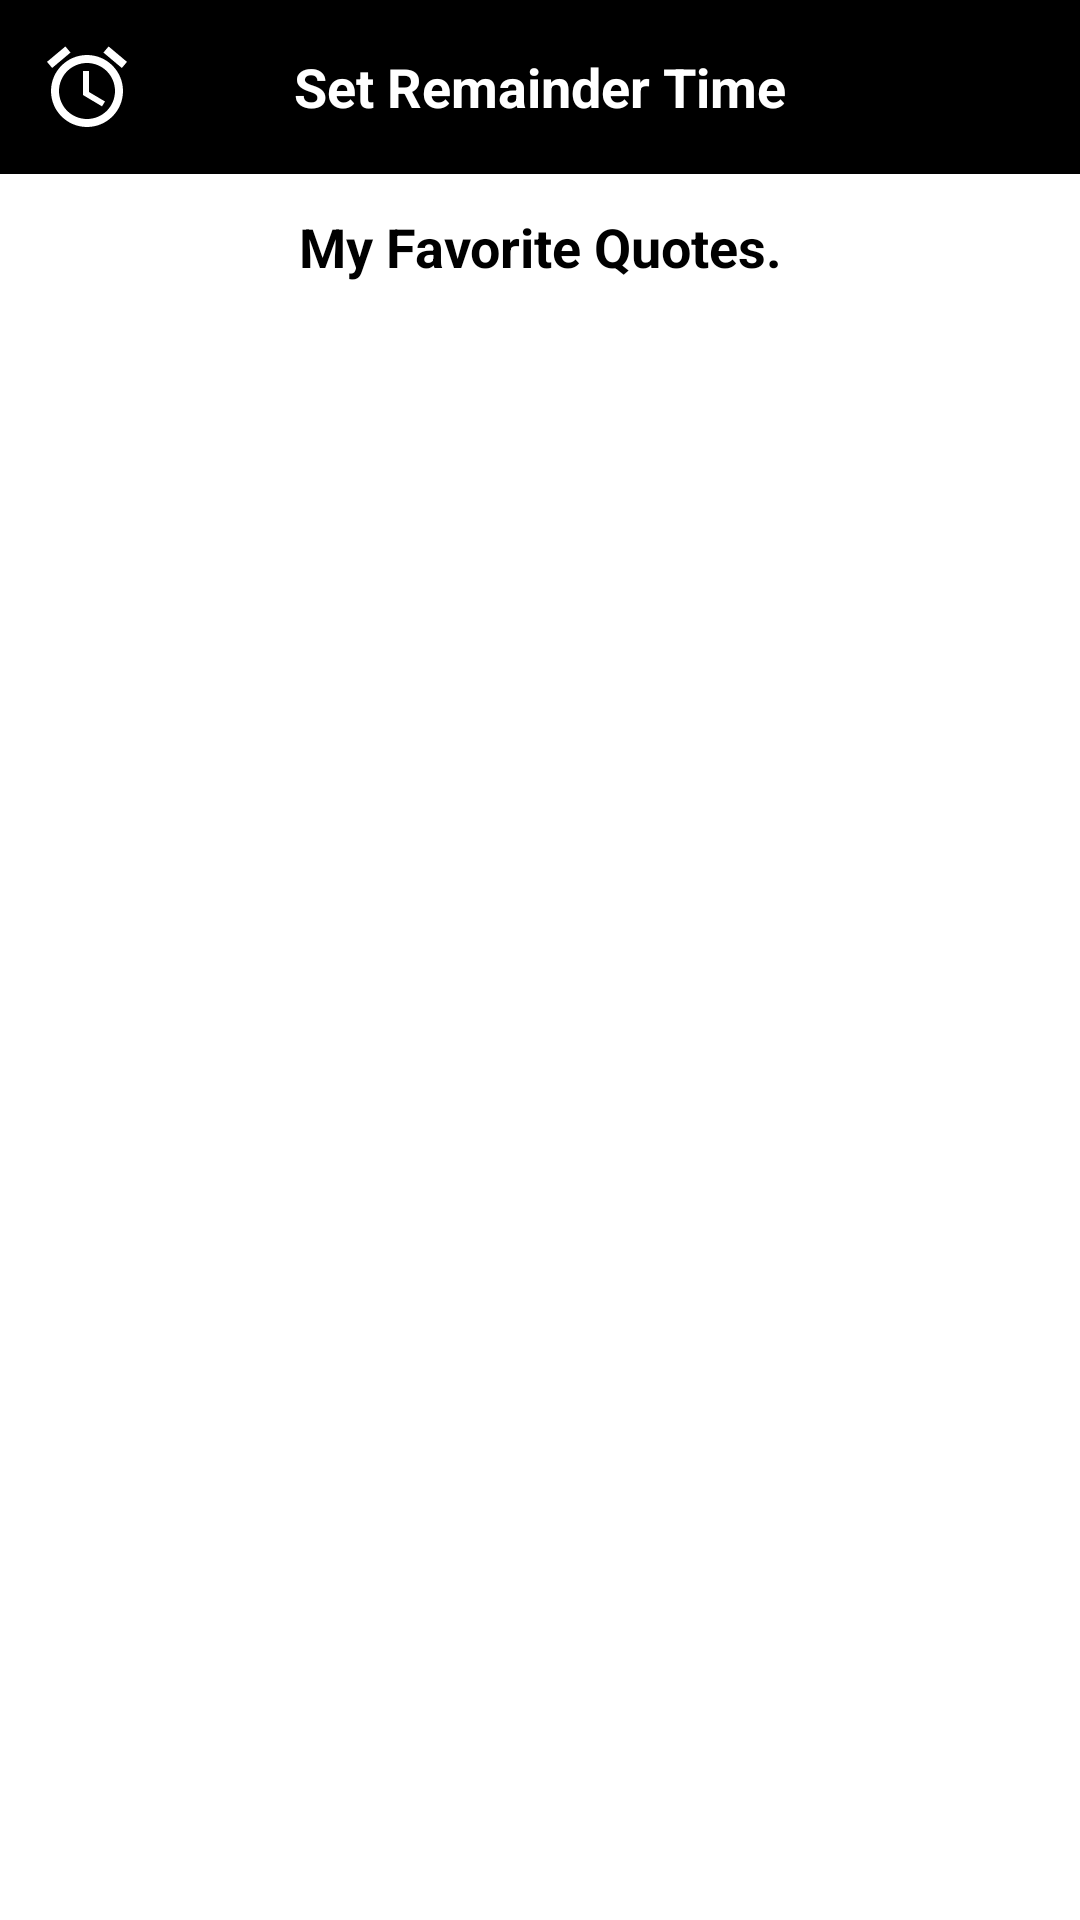

Screen size 1080*1920. Icon name, then its box in pixels as box(x1, y1, x2, y2):
access alarm: box(47, 46, 127, 127)
